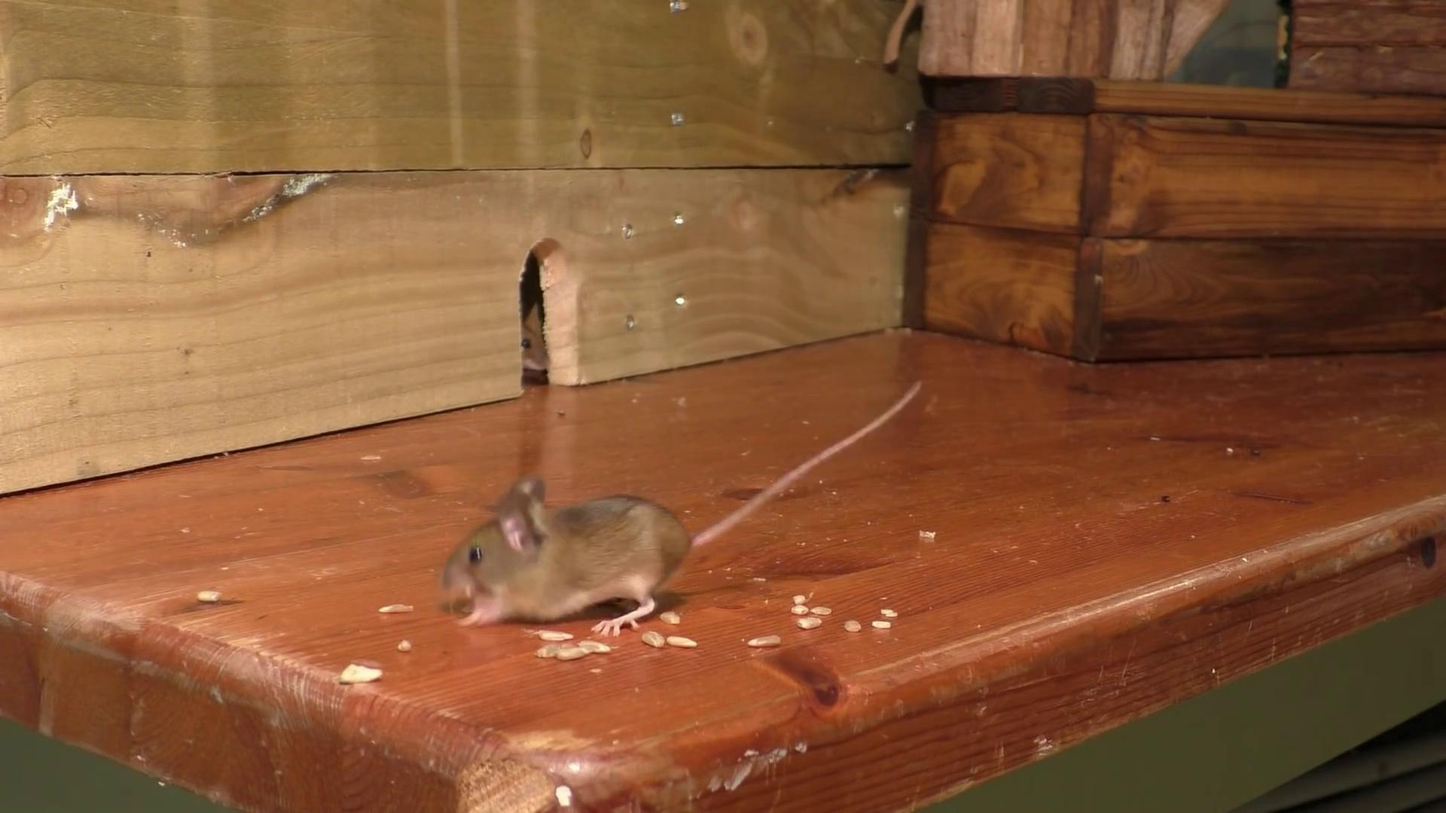rat: (445, 379, 926, 636), (520, 306, 555, 371)
